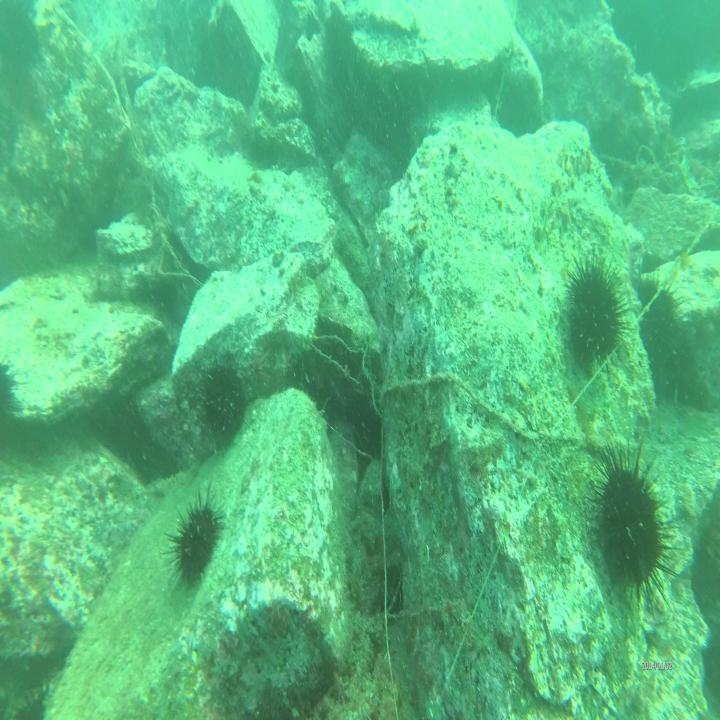echinus: (584, 441, 674, 616), (555, 235, 630, 374), (160, 496, 231, 585), (192, 356, 250, 455)
